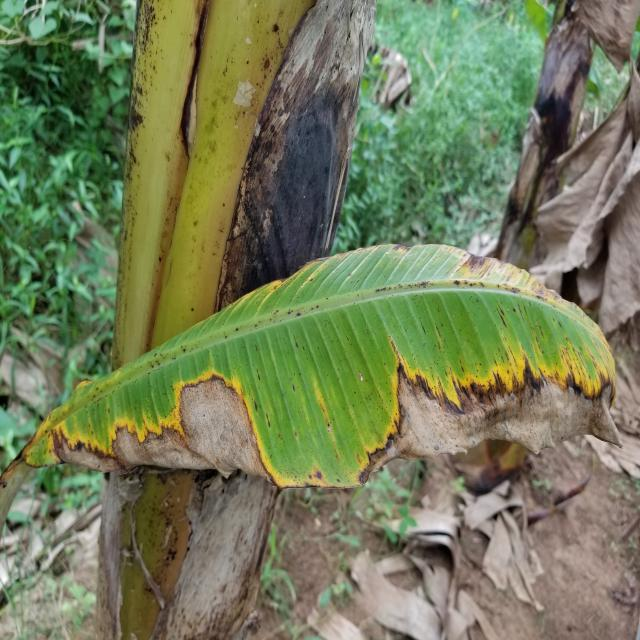Early_rust: (5, 235, 622, 526)
